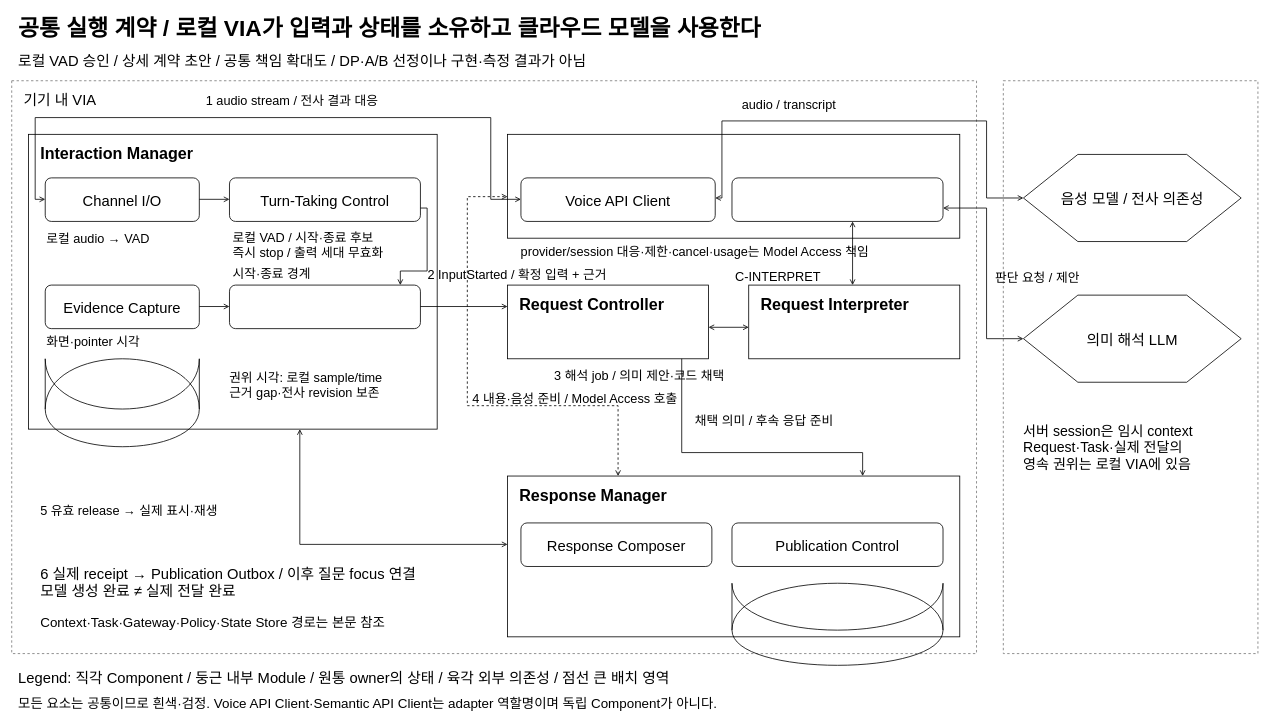
Image size: 1270x723. Some labels were removed from this diagram. Each missing label, with the box of its shape:
Model Access: (507, 134, 960, 238)
Playback State: (44, 358, 199, 409)
Publication Outbox: (731, 582, 943, 630)
Semantic API Client: (731, 177, 943, 222)
Timeline & Buffer: (229, 284, 420, 329)
클라우드 의존성: (1003, 80, 1258, 654)
